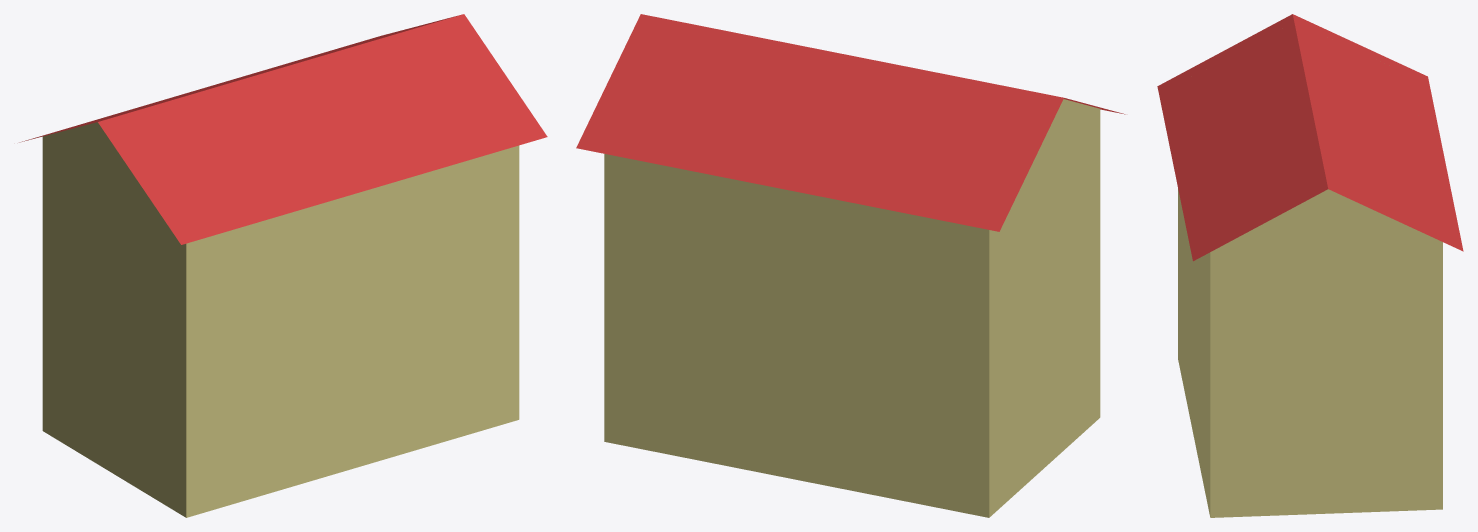
The picture shows the model from 3 angles, left to right: view 1: azimuth 30°, elevation 25°; view 2: azimuth 150°, elevation 25°; view 3: azimuth 270°, elevation 25°; orthographic projection. The views are drawn at different scales.
Bounding box in the file's own units: 11.5 × 8.05 × 9.65.
